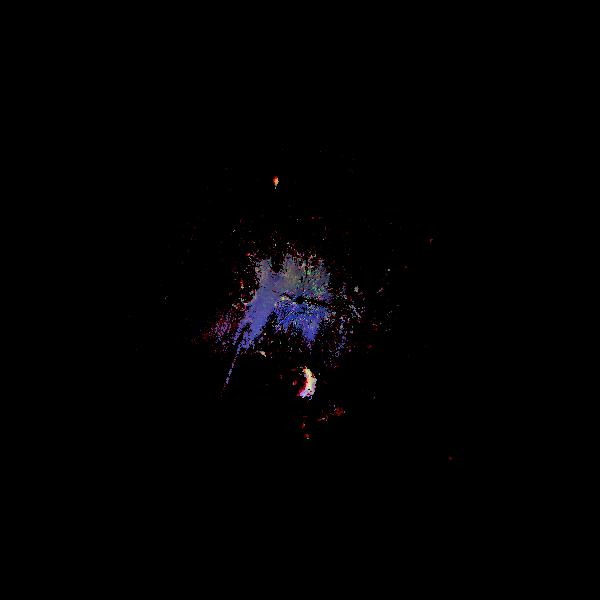roost: (280, 362, 319, 401)
